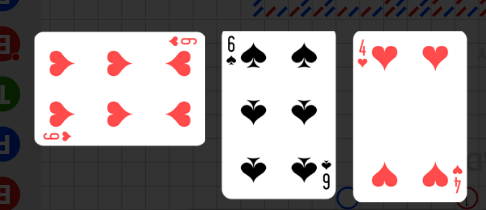4H: (451, 164, 464, 196)
6H: (42, 130, 74, 143)
6S: (226, 35, 238, 68)
